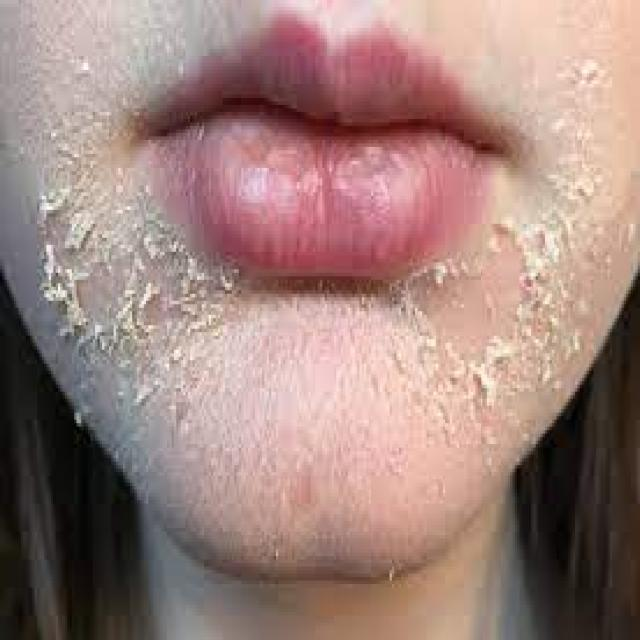Dry-Skin: (58, 92, 214, 502), (228, 295, 374, 518), (385, 255, 519, 490), (541, 52, 625, 296)
